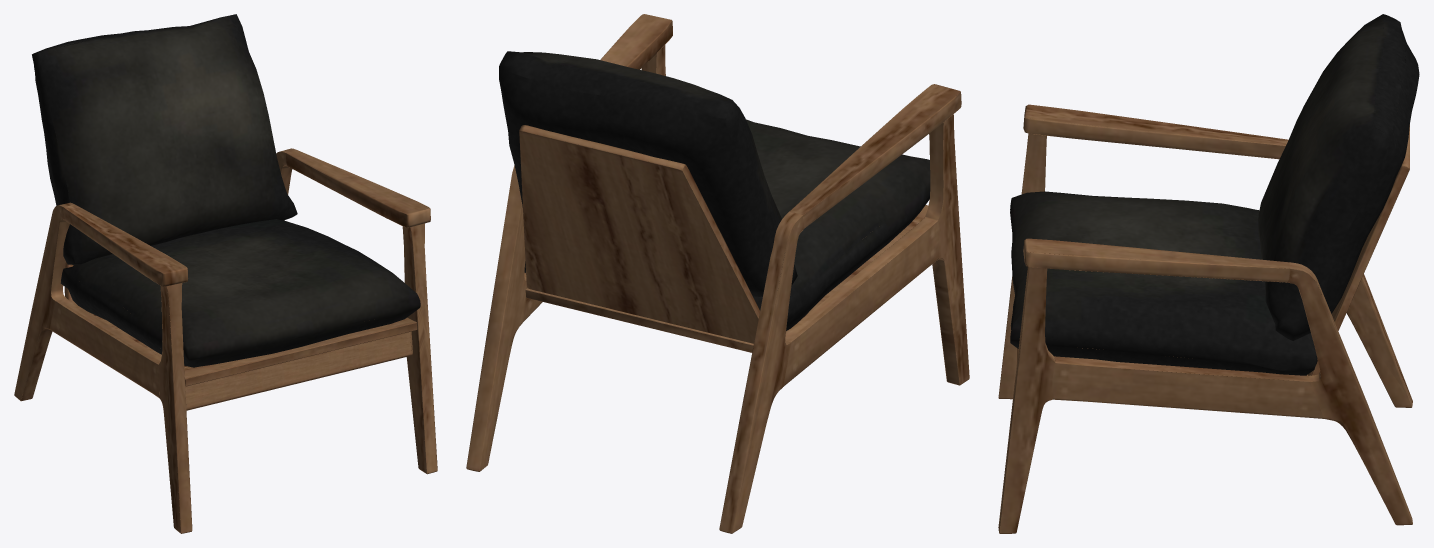
The model's file is modern_arm_chair_01.gltf.
3 views of the same model, side by side, from view 1: azimuth 30°, elevation 25°; view 2: azimuth 150°, elevation 25°; view 3: azimuth 270°, elevation 25° (orthographic). The views are drawn at different scales.
Parts seen in each view (by area): view 1: modern_arm_chair_01; view 2: modern_arm_chair_01; view 3: modern_arm_chair_01.
Part boxes in pixels (left/top/right/bottom): modern_arm_chair_01: left=14, top=14, right=437, bottom=533; modern_arm_chair_01: left=466, top=14, right=969, bottom=533; modern_arm_chair_01: left=998, top=14, right=1419, bottom=533.
Size of the model in its own units: 0.8204 by 1.02 by 0.9873.
Materials: 1 (1 with a texture image).
